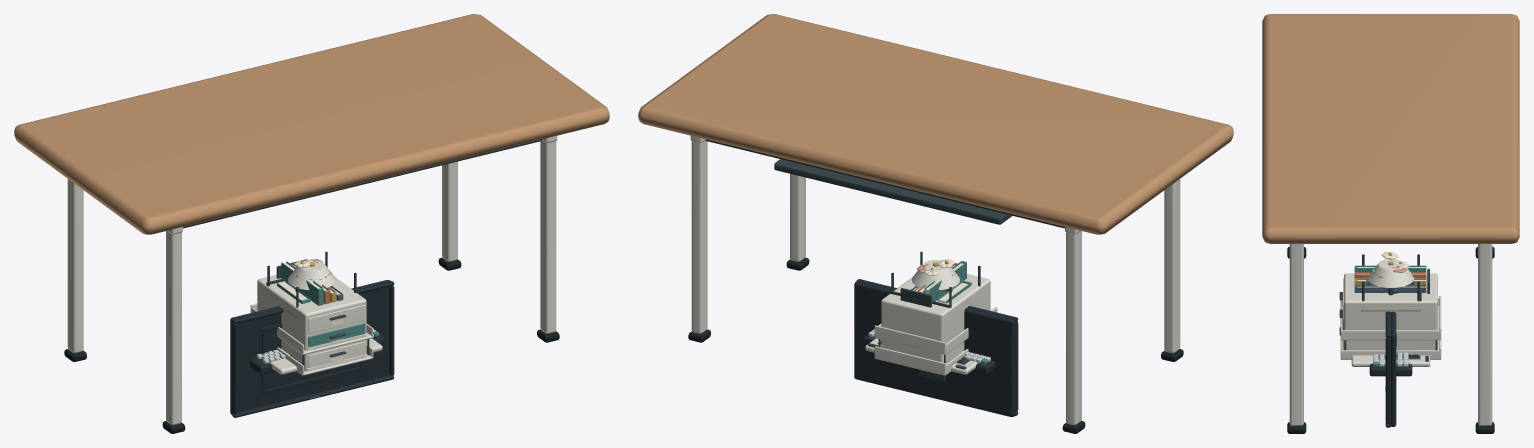
Rendered from workstation-set.glb.
The picture shows the model from 3 angles, left to right: view 1: azimuth 30°, elevation 25°; view 2: azimuth 150°, elevation 25°; view 3: azimuth 270°, elevation 25°; orthographic projection. The views are drawn at different scales.
Visible parts, largest first — view 1: single-desk / Honey oak, single-desk / Warm ivory powdercoat, monitor-shell / Graphite polymer, drawer-unit / Warm ivory powdercoat, letter-tray / Warm ivory powdercoat, ornament-lamp / Warm ivory powdercoat, laptop-lid / Graphite polymer, single-desk / Soft black rubber, single-desk / Graphite alloy, drawer-unit / Muted teal; view 2: single-desk / Honey oak, single-desk / Warm ivory powdercoat, monitor-shell / Graphite polymer, drawer-unit / Warm ivory powdercoat, single-desk / Graphite alloy, letter-tray / Warm ivory powdercoat, ornament-lamp / Warm ivory powdercoat, single-desk / Soft black rubber; view 3: single-desk / Honey oak, single-desk / Warm ivory powdercoat, drawer-unit / Warm ivory powdercoat, letter-tray / Warm ivory powdercoat, monitor-shell / Graphite polymer, ornament-lamp / Warm ivory powdercoat, laptop-deck / Warm ivory powdercoat, single-desk / Soft black rubber, file-holder / Slate blue bookcloth, keyboard-full / Graphite polymer, keyboard-full / Porcelain keycaps.
Boxes of the visible parts, bbox=[...] form: single-desk / Honey oak: bbox=[14, 14, 609, 234]; single-desk / Warm ivory powdercoat: bbox=[67, 135, 557, 425]; monitor-shell / Graphite polymer: bbox=[230, 280, 394, 417]; drawer-unit / Warm ivory powdercoat: bbox=[257, 275, 366, 371]; letter-tray / Warm ivory powdercoat: bbox=[250, 303, 373, 375]; ornament-lamp / Warm ivory powdercoat: bbox=[287, 260, 336, 290]; laptop-lid / Graphite polymer: bbox=[261, 323, 364, 394]; single-desk / Soft black rubber: bbox=[64, 257, 559, 433]; single-desk / Graphite alloy: bbox=[183, 139, 542, 228]; drawer-unit / Muted teal: bbox=[308, 323, 365, 347]; single-desk / Honey oak: bbox=[638, 14, 1233, 234]; single-desk / Warm ivory powdercoat: bbox=[690, 135, 1180, 425]; monitor-shell / Graphite polymer: bbox=[854, 279, 1018, 416]; drawer-unit / Warm ivory powdercoat: bbox=[881, 274, 990, 363]; single-desk / Graphite alloy: bbox=[705, 139, 1064, 228]; letter-tray / Warm ivory powdercoat: bbox=[874, 307, 997, 375]; ornament-lamp / Warm ivory powdercoat: bbox=[911, 260, 960, 290]; single-desk / Soft black rubber: bbox=[688, 257, 1183, 433]; single-desk / Honey oak: bbox=[1262, 14, 1519, 243]; single-desk / Warm ivory powdercoat: bbox=[1289, 244, 1492, 425]; drawer-unit / Warm ivory powdercoat: bbox=[1343, 273, 1437, 350]; letter-tray / Warm ivory powdercoat: bbox=[1340, 295, 1441, 359]; monitor-shell / Graphite polymer: bbox=[1385, 311, 1396, 427]; ornament-lamp / Warm ivory powdercoat: bbox=[1367, 259, 1414, 288]; laptop-deck / Warm ivory powdercoat: bbox=[1351, 355, 1430, 366]; single-desk / Soft black rubber: bbox=[1287, 247, 1494, 433]; file-holder / Slate blue bookcloth: bbox=[1354, 285, 1426, 292]; keyboard-full / Graphite polymer: bbox=[1369, 363, 1412, 376]; keyboard-full / Porcelain keycaps: bbox=[1373, 354, 1408, 366].
Bounding box in the file's own units: 1.65 × 0.9494 × 0.82.
